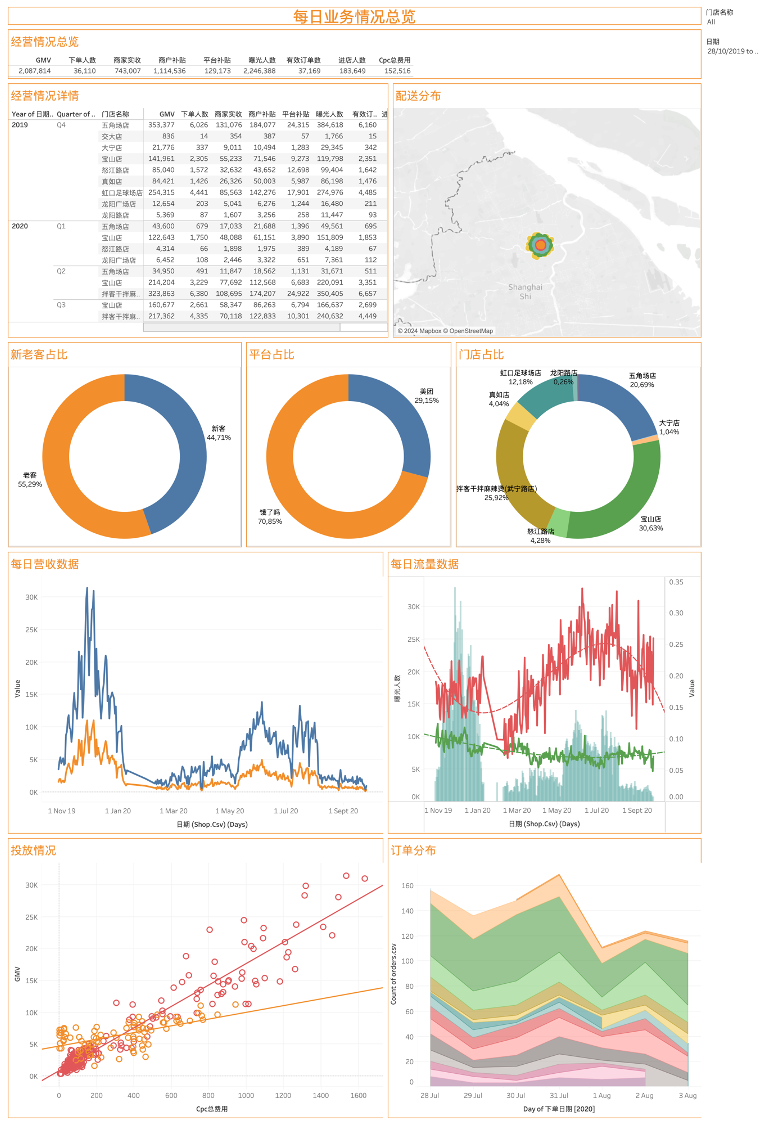

This screenshot's page, from the dashboard's own definition file:
{"tool":"tableau","page":{"name":"Dashboard 1","canvas":[1366,2000],"ordinal":0},"visuals":[{"type":"text","box":[8,8,1242,40]},{"type":"filter","title":"经营情况详情","param":"[federated.1s5slwx0mdi9xn0zz44xd1ve2jym].[none:门店名称:nk]","box":[1250,8,108,52]},{"type":"worksheet","title":"经营情况总览","mark":"Automatic","box":[8,48,1242,96]},{"type":"filter","title":"经营情况详情","param":"[federated.1s5slwx0mdi9xn0zz44xd1ve2jym].[none:日期:qk]","box":[1250,60,108,69]},{"type":"worksheet","title":"经营情况详情","mark":"Automatic","rows":["日期 (shop.csv)","日期 (shop.csv)","门店名称"],"box":[8,144,684.6,460]},{"type":"worksheet","title":"配送分布","mark":"Automatic","rows":["配送坐标 - 纬度"],"cols":["配送坐标 - 经度"],"box":[692.6,144,557.4,460]},{"type":"worksheet","title":"新老客占比","mark":"Pie","rows":["Calculation_4063161698014773257","Calculation_4063161698014789643"],"box":[8,604,424,373.2]},{"type":"worksheet","title":"平台占比","mark":"Pie","rows":["Calculation_4063161698014773257","Calculation_4063161698014789643"],"box":[432,604,373,373.2]},{"type":"worksheet","title":"门店占比","mark":"Pie","rows":["Calculation_4063161698014773257","Calculation_4063161698014789643"],"box":[805,604,445,373.2]},{"type":"worksheet","title":"每日营收数据","mark":"Automatic","cols":["日期 (Shop.Csv) (Days)"],"box":[8,977.2,676.3,509.3]},{"type":"worksheet","title":"每日流量数据","mark":"Automatic","rows":["曝光人数"],"cols":["日期 (Shop.Csv) (Days)"],"box":[684.3,977.2,565.7,509.3]},{"type":"worksheet","title":"投放情况","mark":"Automatic","rows":["GMV"],"cols":["cpc总费用"],"box":[8,1486.4,676.3,505.6]},{"type":"worksheet","title":"订单分布","mark":"Area","rows":["orders.csv_95632C277EB0419E97060BC2DB8D1A89"],"cols":["下单日期"],"box":[684.3,1486.4,565.7,505.6]}]}

Visuals, with their boxes in screenshot pixels (x1, y1, x2, y2), scaled from the page's 1366x2000 canvas onto the 770x1125 screenshot:
text: <region>5, 4, 705, 27</region>
"经营情况详情" filter: <region>705, 4, 765, 34</region>
"经营情况总览" worksheet: <region>5, 27, 705, 81</region>
"经营情况详情" filter: <region>705, 34, 765, 73</region>
"经营情况详情" worksheet: <region>5, 81, 390, 340</region>
"配送分布" worksheet: <region>390, 81, 705, 340</region>
"新老客占比" worksheet (Pie marks): <region>5, 340, 244, 550</region>
"平台占比" worksheet (Pie marks): <region>244, 340, 454, 550</region>
"门店占比" worksheet (Pie marks): <region>454, 340, 705, 550</region>
"每日营收数据" worksheet: <region>5, 550, 386, 836</region>
"每日流量数据" worksheet: <region>386, 550, 705, 836</region>
"投放情况" worksheet: <region>5, 836, 386, 1120</region>
"订单分布" worksheet (Area marks): <region>386, 836, 705, 1120</region>
